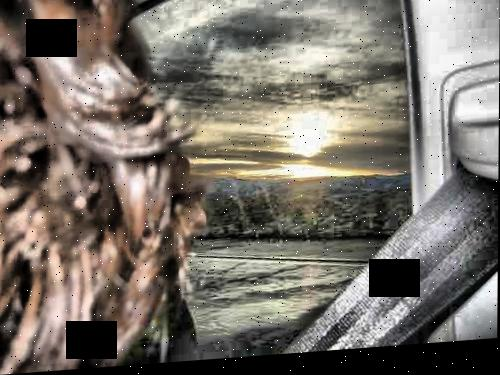seatbelt: (296, 170, 495, 358)
